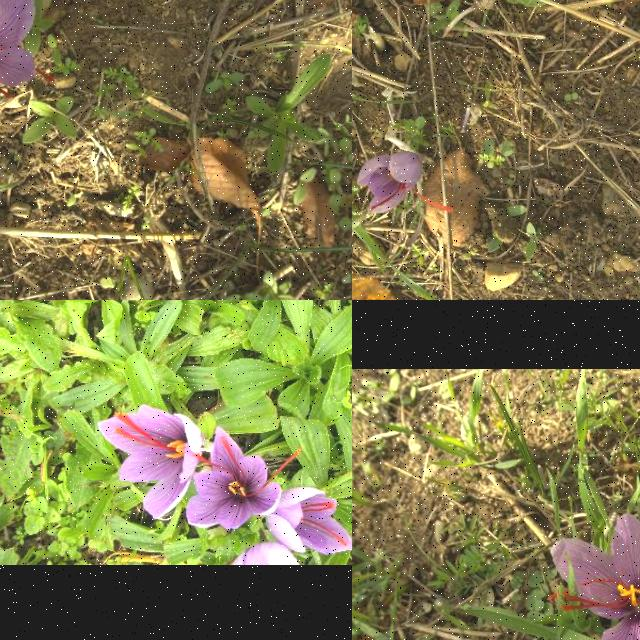flower: (185, 426, 302, 530), (98, 404, 202, 520), (547, 513, 640, 640), (0, 0, 54, 149), (358, 152, 454, 216), (266, 487, 352, 554), (228, 539, 302, 565)
